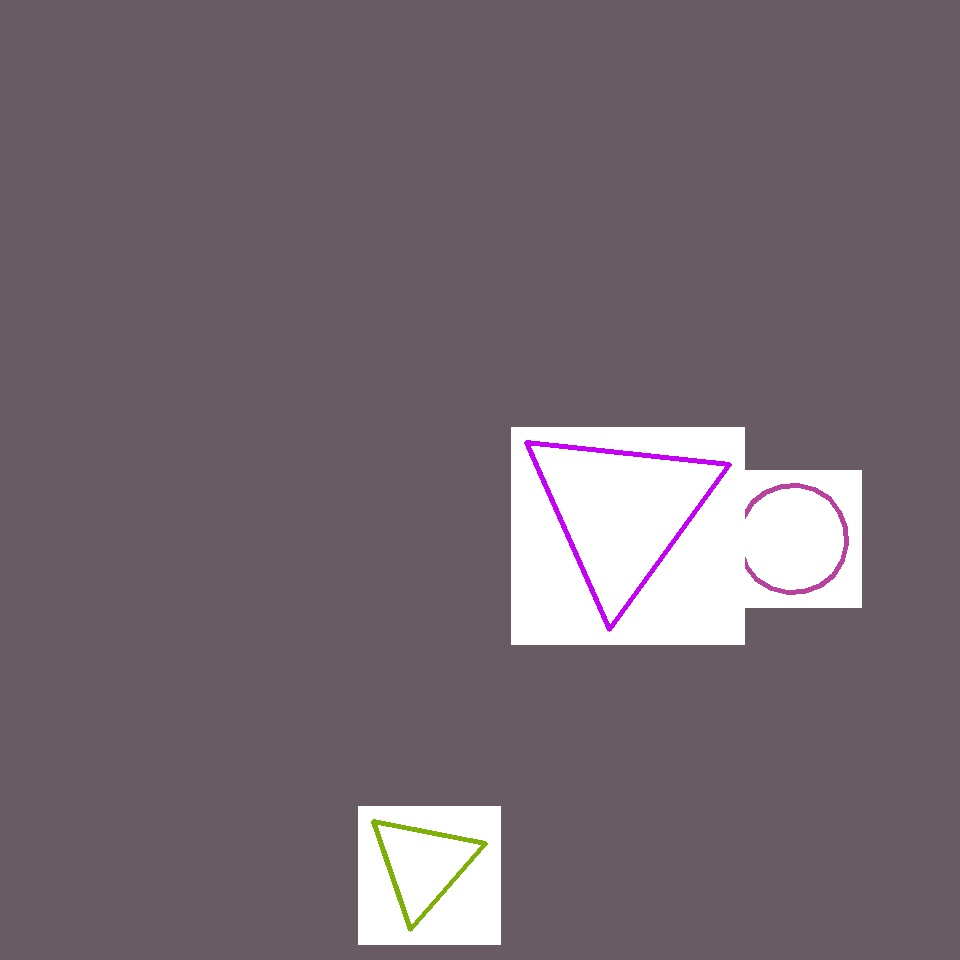circle: (520, 418, 724, 606), (367, 811, 479, 919)
square: (123, 576, 414, 867), (232, 197, 516, 482)
triangle: (740, 485, 846, 592)
